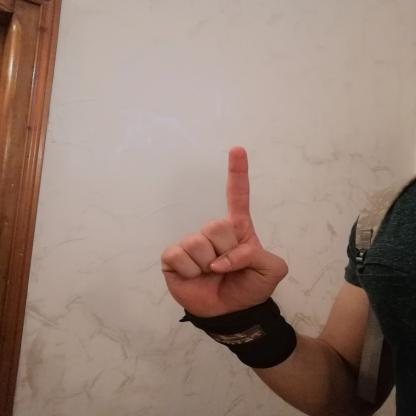BAA: (150, 139, 298, 330)
